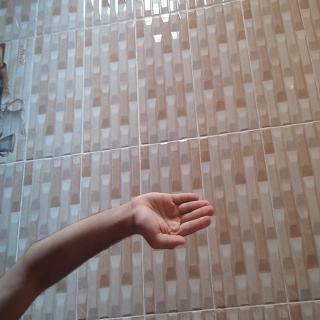SEEN: (138, 140, 190, 260)
